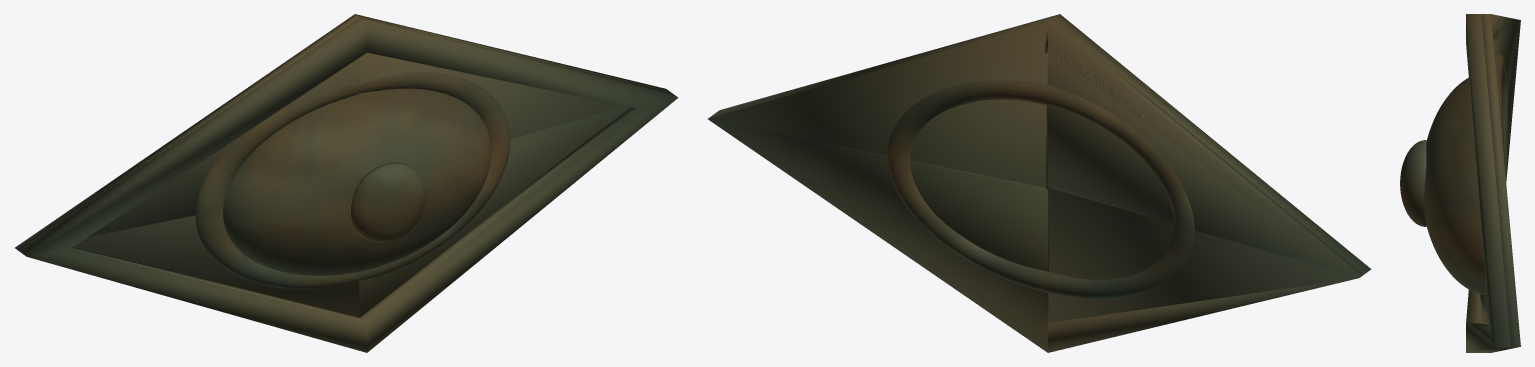
Rendered from yanxing.glb.
3 renders of one model, left to right at view 1: azimuth 30°, elevation 25°; view 2: azimuth 150°, elevation 25°; view 3: azimuth 270°, elevation 25°, orthographic. The views are drawn at different scales.
Visible parts, largest first — view 1: model; view 2: model; view 3: model.
Boxes of the visible parts, x1,y1,x2,y2 form: model: (15,14,678,352); model: (708,14,1371,352); model: (1400,14,1520,352).
Size of the model in its own units: 1 by 0.4839 by 0.1565.
